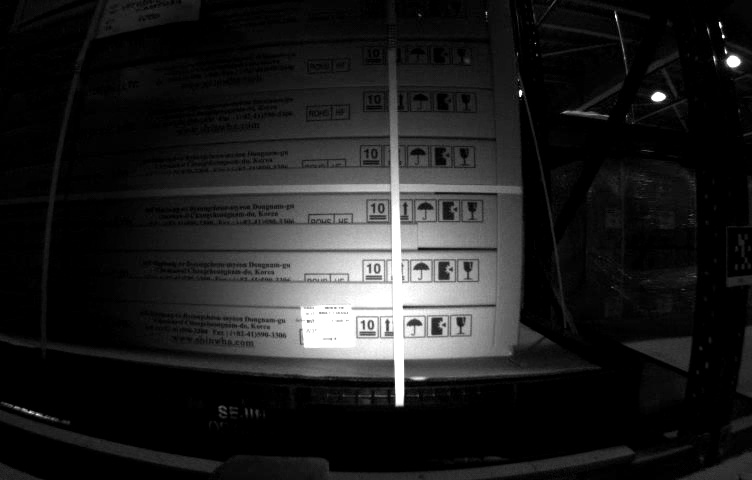True Barcode: (300, 304, 357, 349)
